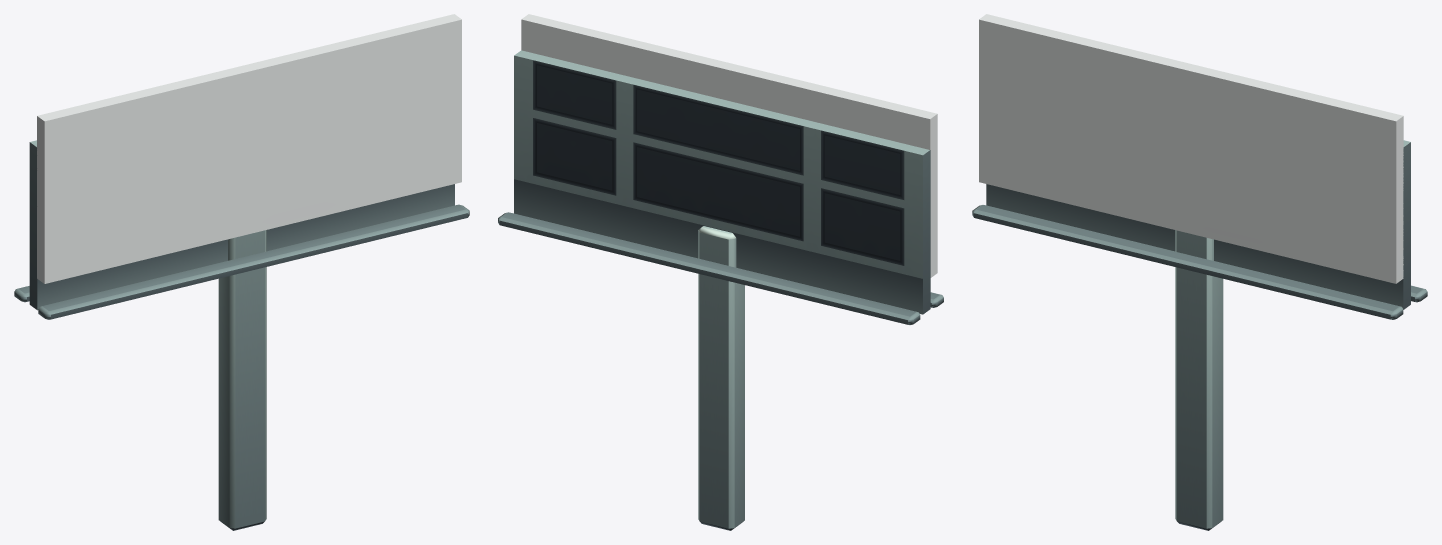
The model's file is billboard.fbx.
3 views of the same model, side by side, from view 1: azimuth 30°, elevation 25°; view 2: azimuth 150°, elevation 25°; view 3: azimuth 330°, elevation 25° (orthographic). The views are drawn at different scales.
Parts seen in each view (by area): view 1: billboard; view 2: billboard; view 3: billboard.
Boxes of the visible parts, <box> form: billboard: <box>14,14,469,530</box>; billboard: <box>498,14,943,530</box>; billboard: <box>972,14,1427,530</box>.
Bounding box in the file's own units: 575 × 597 × 82.34.
